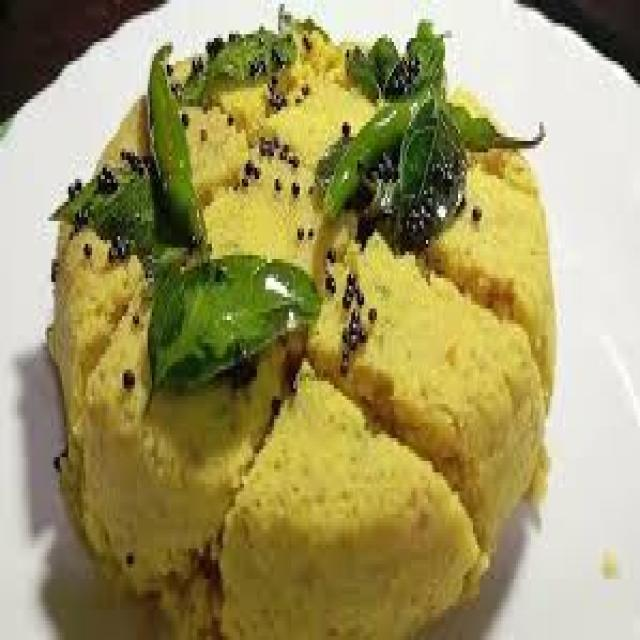DHOKLA: (225, 368, 486, 636), (78, 272, 283, 613), (310, 246, 547, 533), (188, 134, 331, 366), (431, 176, 558, 358), (90, 94, 244, 234), (51, 226, 151, 428), (257, 45, 385, 197), (172, 34, 315, 129)
